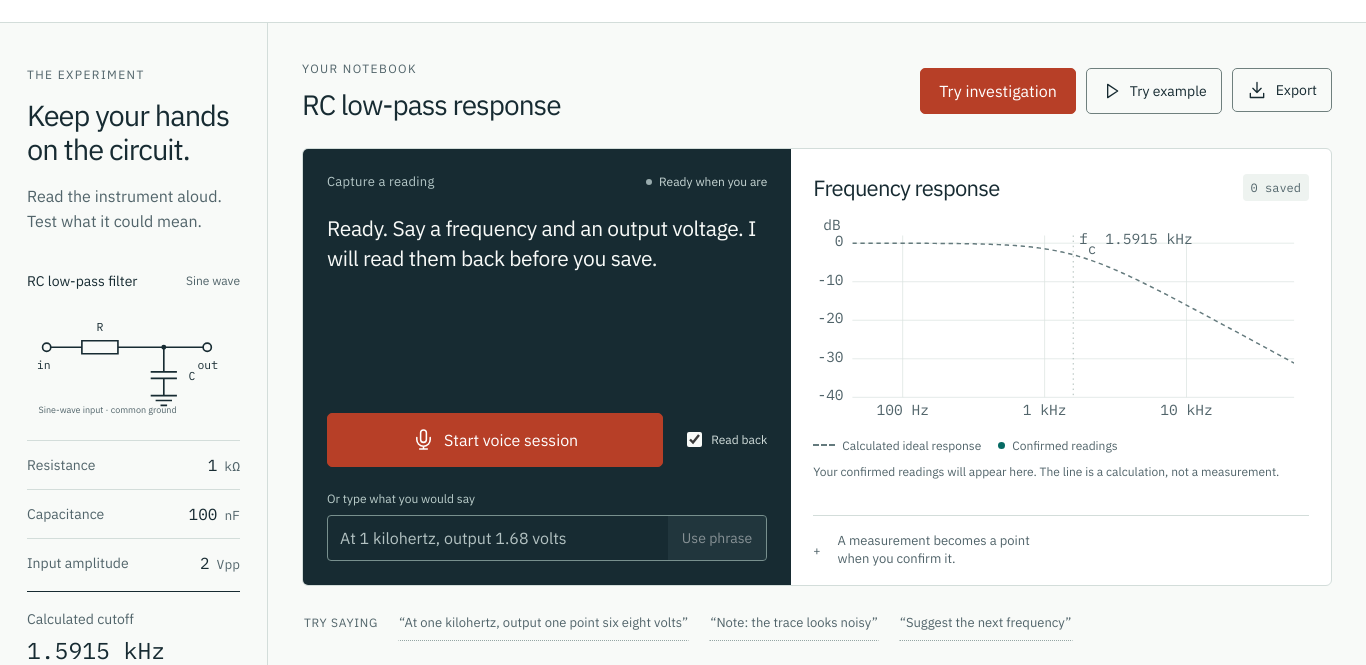
Test: real notebook workflows › starts a fresh record instead of reinterpreting old measurements under a changed input
Click the field labelled "Or type what you would say" at (498, 538), box [328, 516, 668, 560]
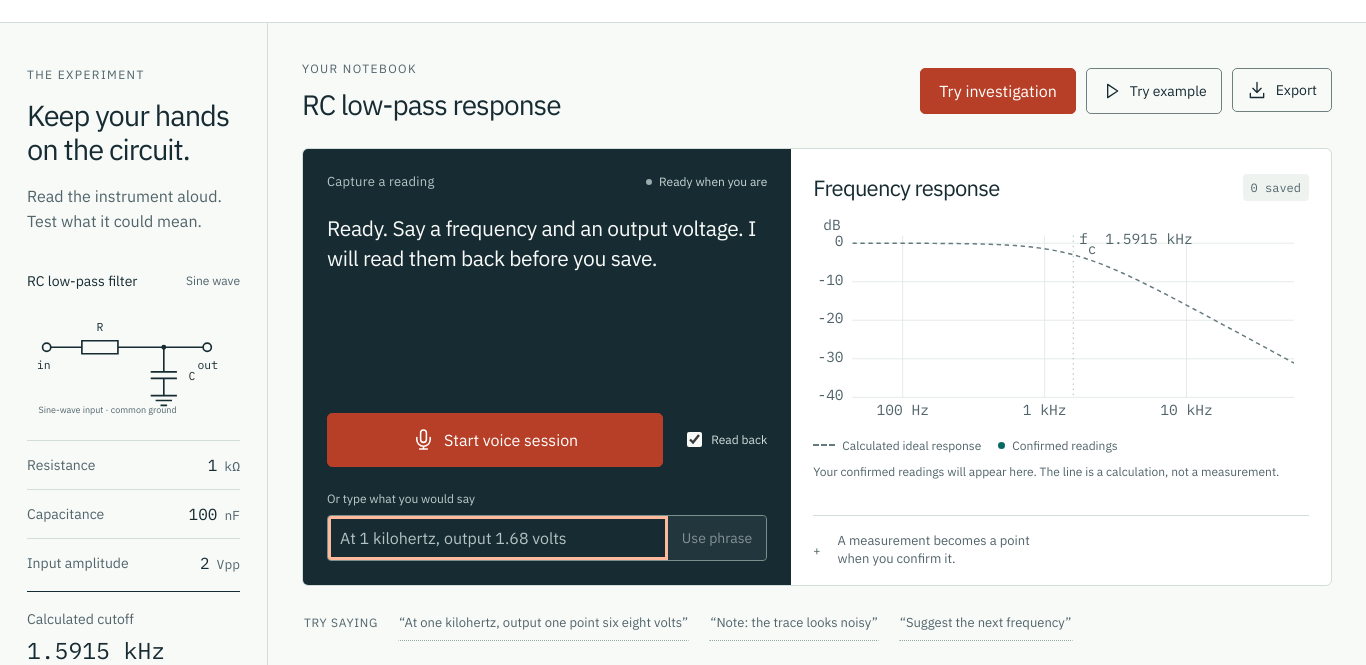
Type keys "At 100 hertz output 1.99 volts"
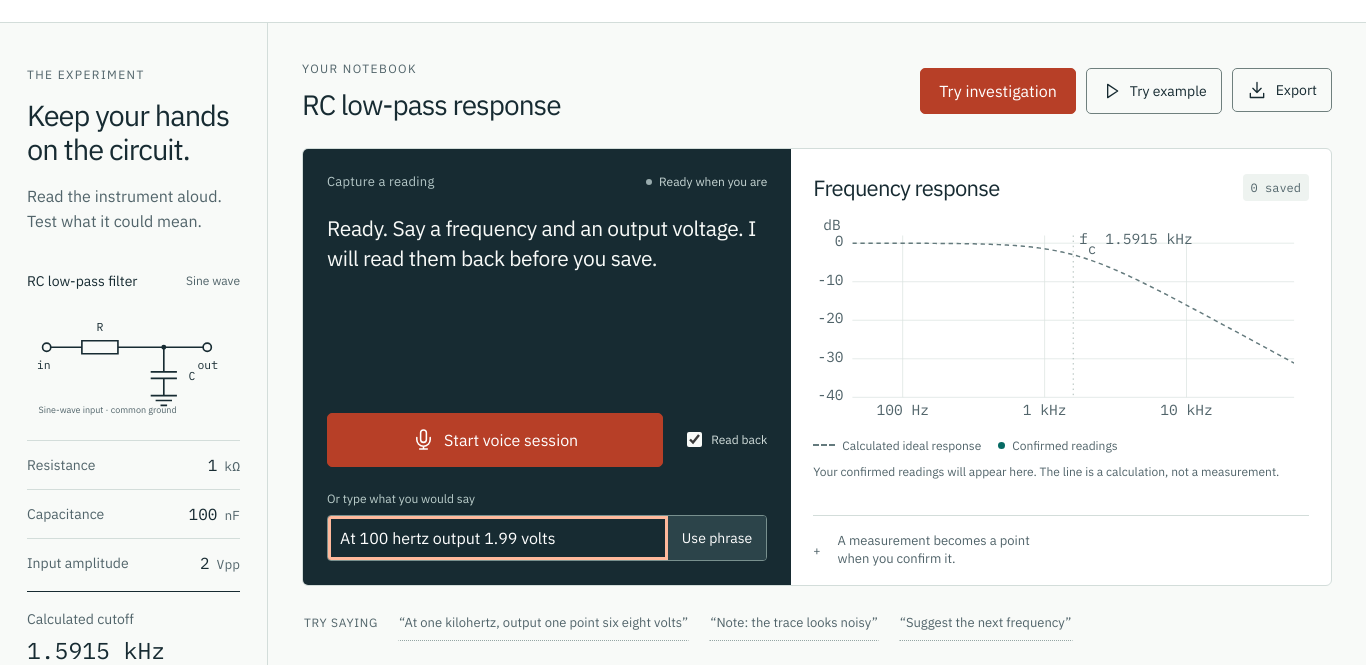
Click the button with aria-label "Process typed phrase" at (717, 538), box [668, 516, 766, 560]
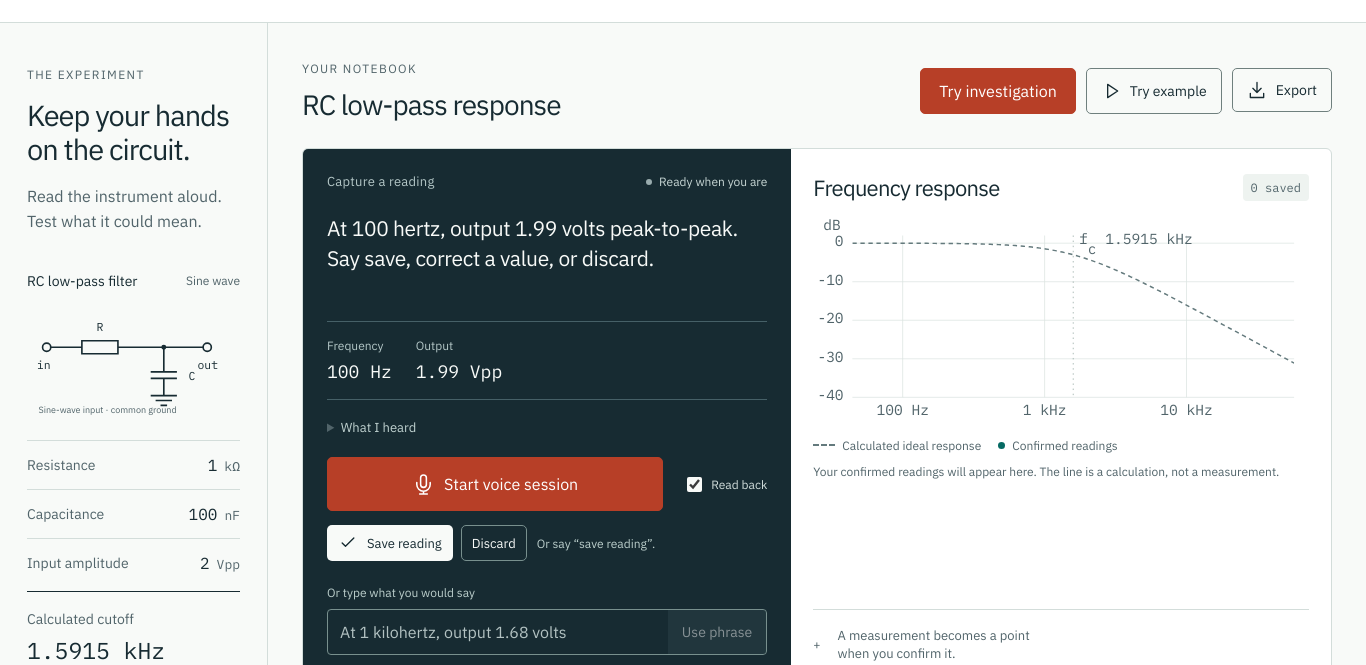
Click the button "Save reading" at (390, 543), box [327, 525, 453, 561]
(page scrolled)
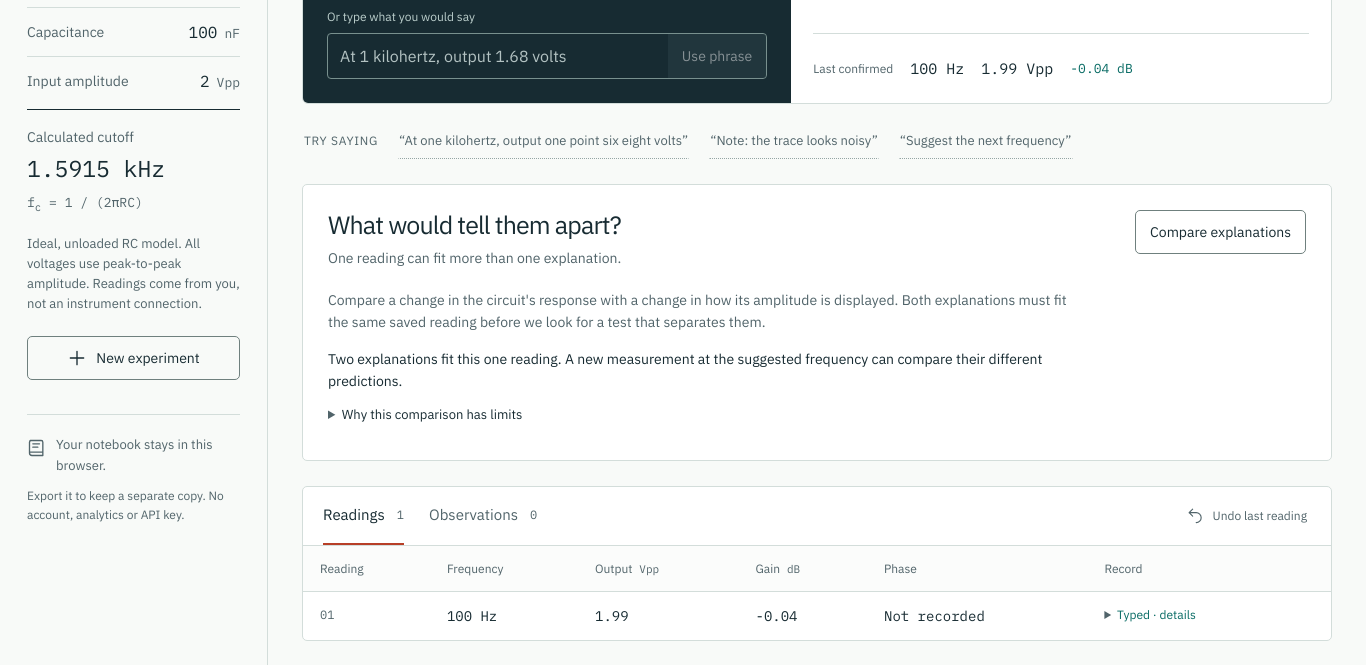
Click the button "New experiment" at (134, 358), box [27, 336, 240, 380]
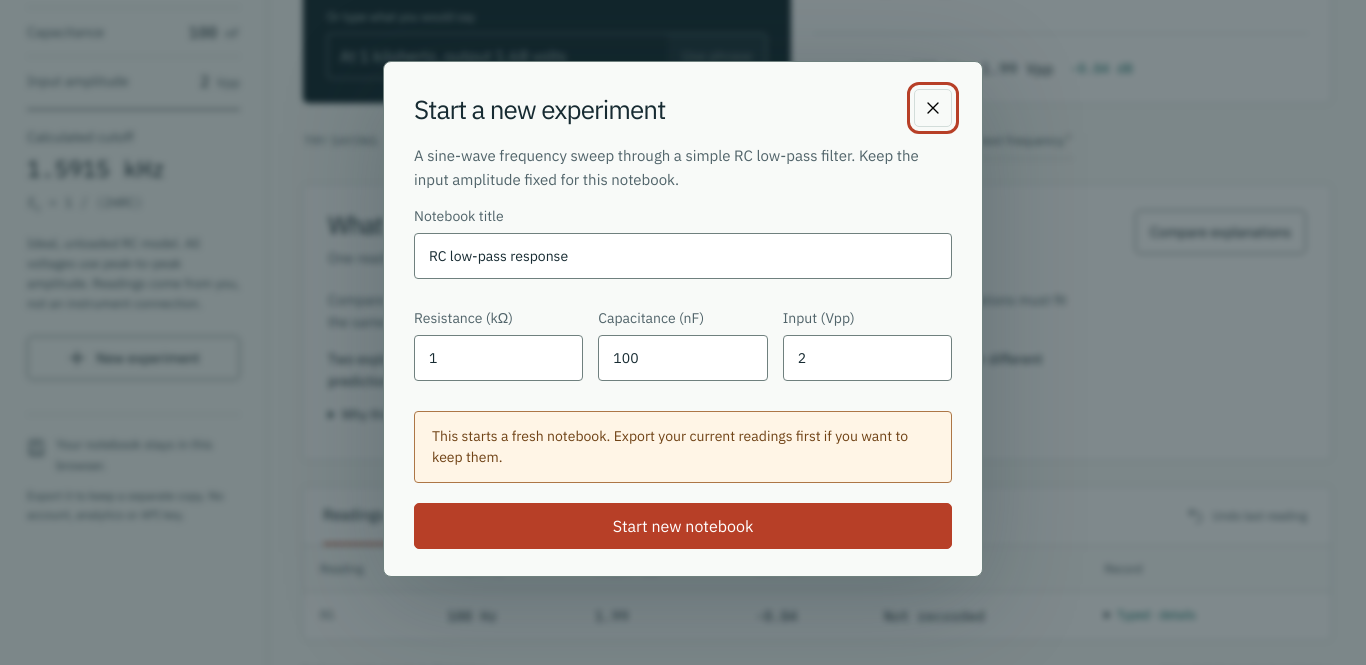
Expected: the text "Export your current readings first" is shown, [432, 427, 908, 466]
Replace the text in the number field labelled "Input (Vpp)" with "4" at (867, 358), box [783, 335, 952, 381]
Click the button "Start new notebook" at (683, 526), box [414, 503, 952, 549]
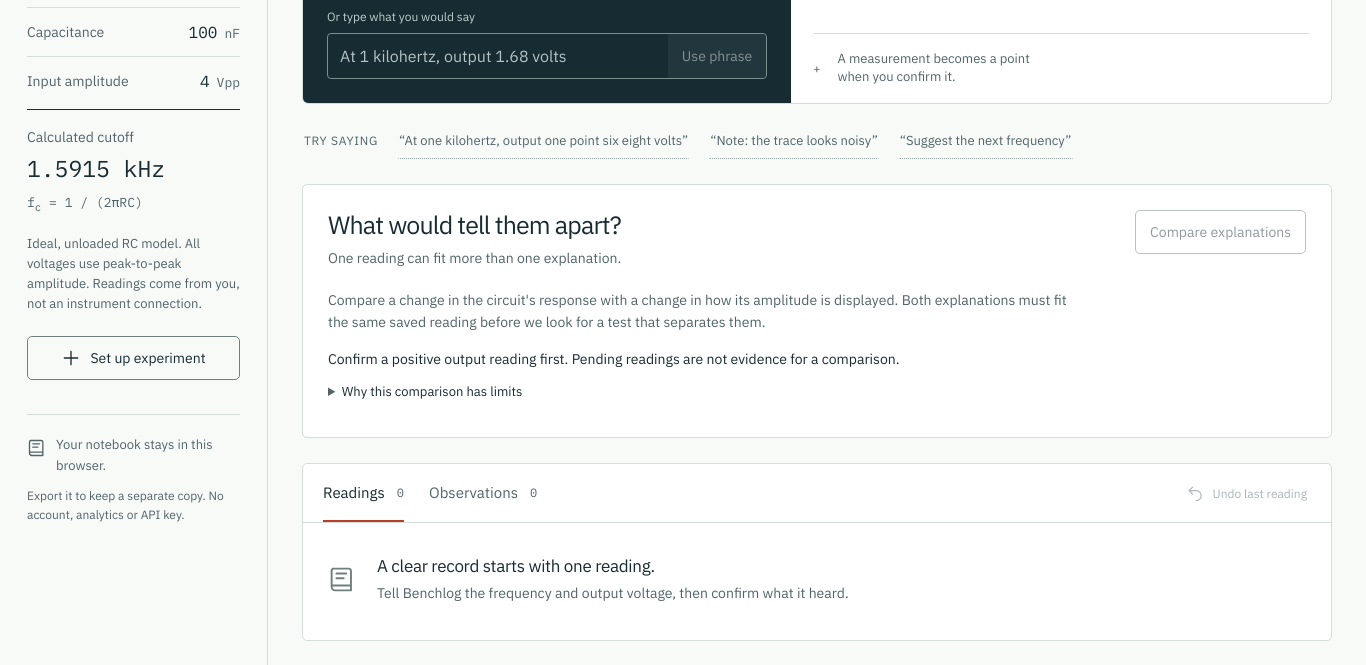
Expected: the tab "Readings 0" is shown, [323, 464, 404, 522]
